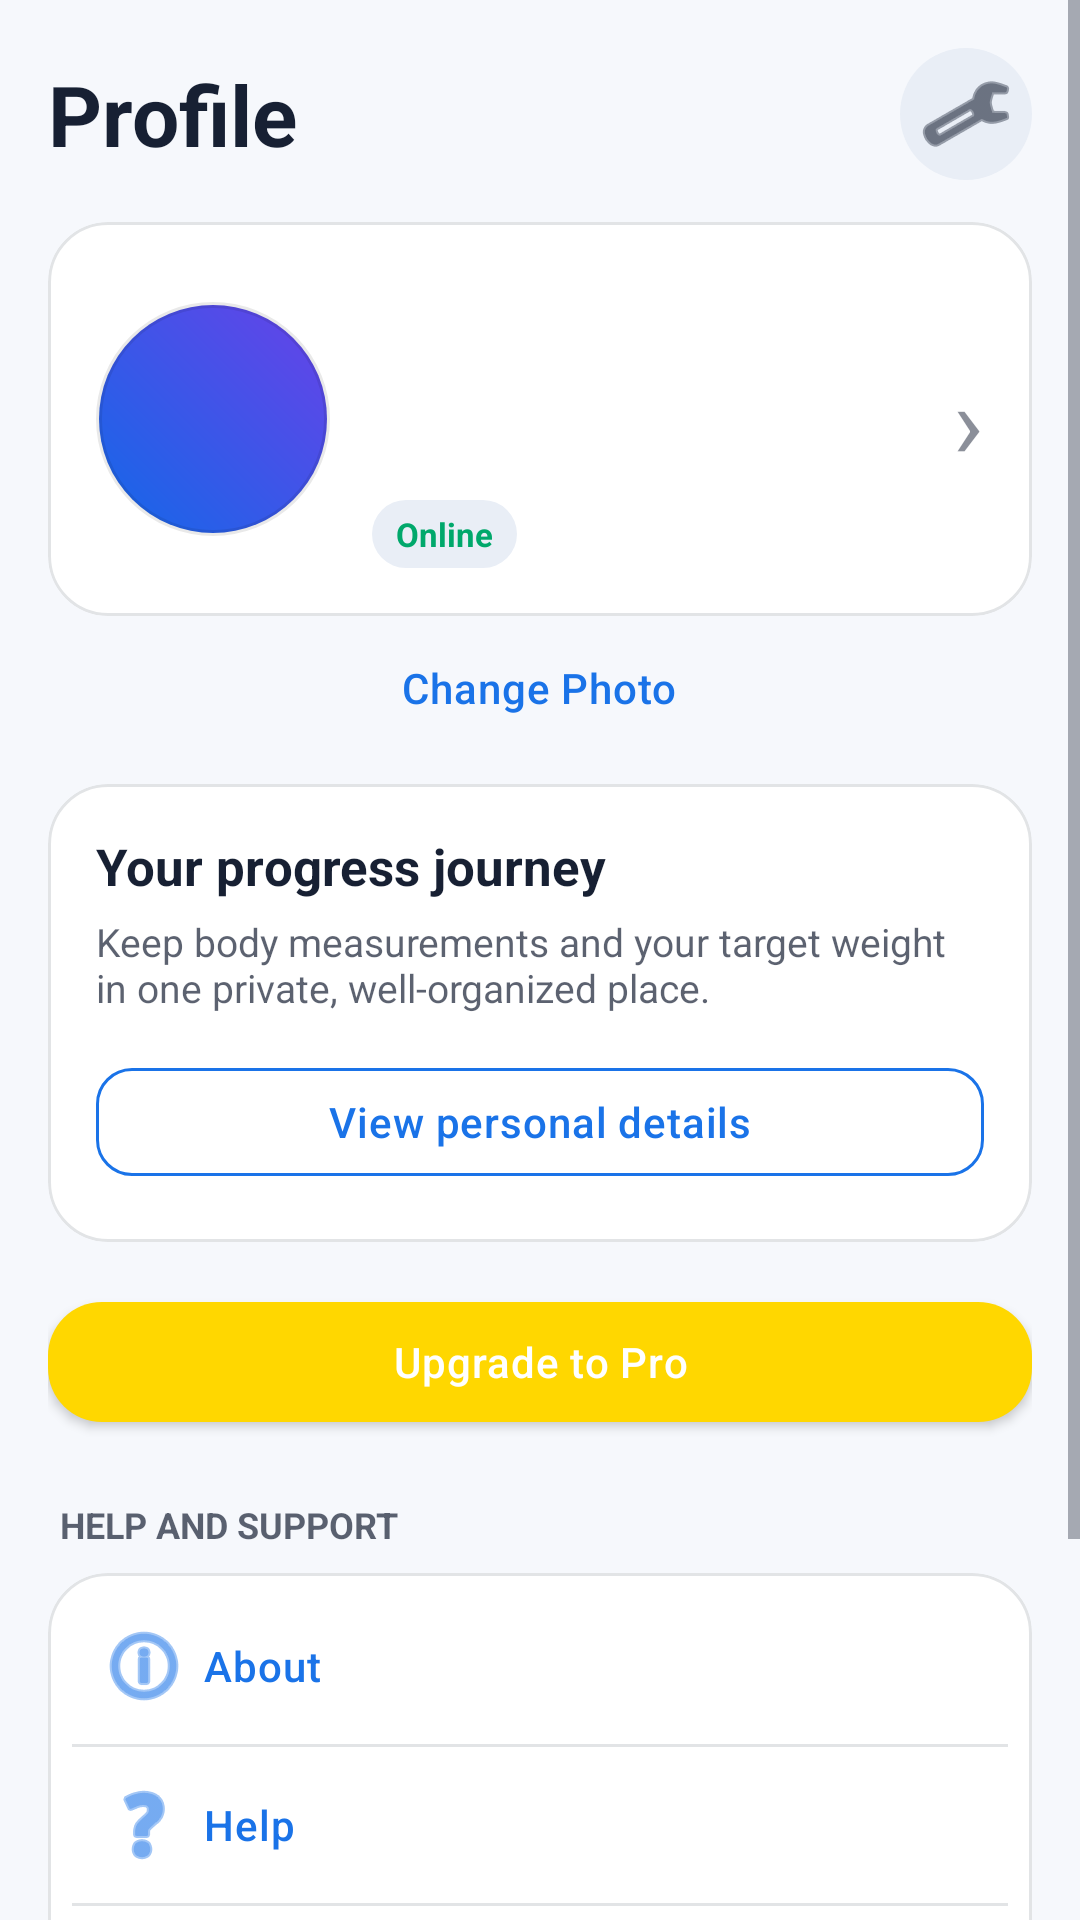

Icons on this 1080×1920 Android screen, each with the point to tap as [x,y]:
Settings: [966,114]
